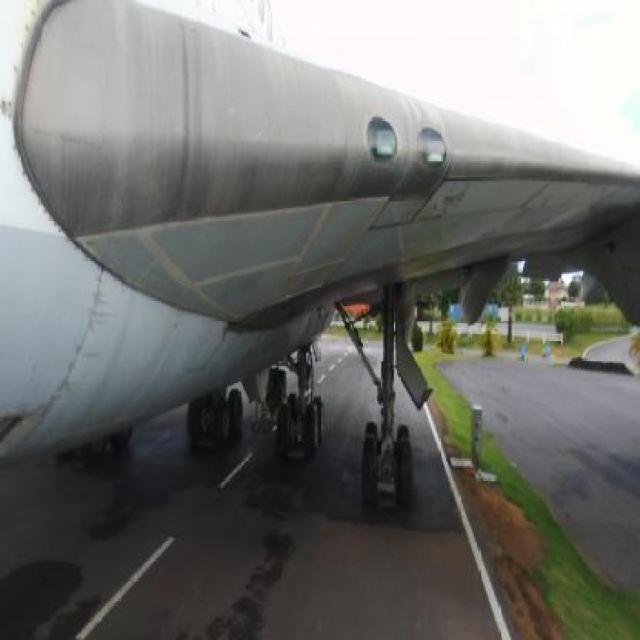Missing-Rivet: (56, 273, 109, 401)
Scartch: (426, 180, 480, 222)
